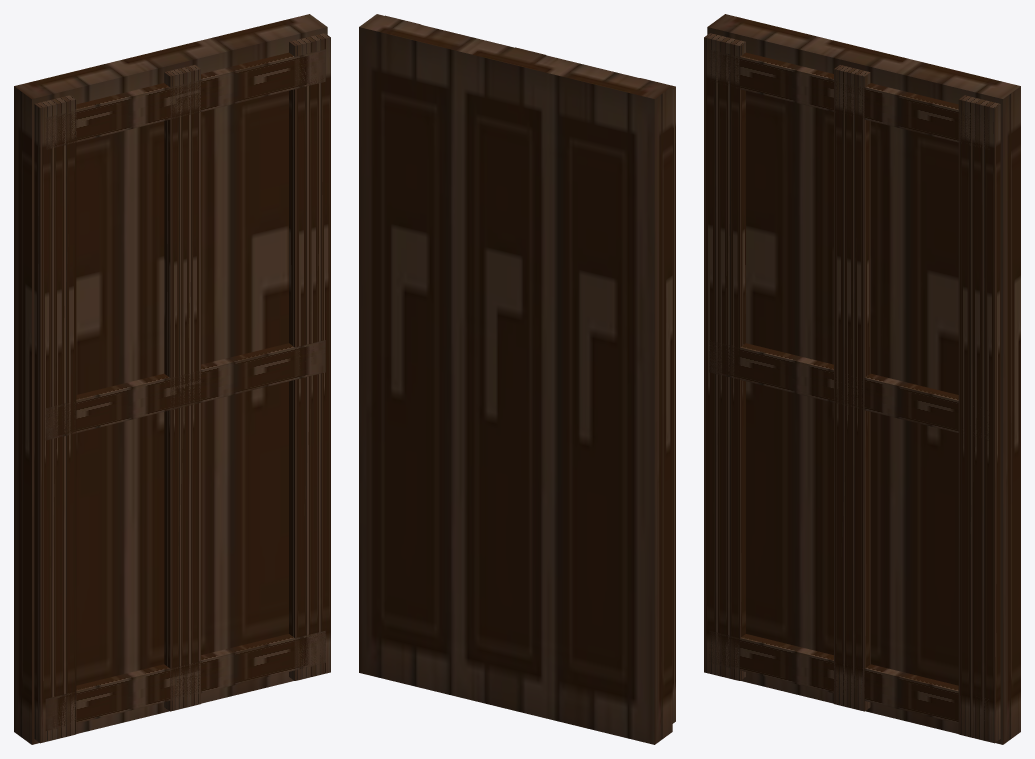
File: ae_duel_stone_door_lod2.glb
3 renders of one model, left to right at view 1: azimuth 30°, elevation 25°; view 2: azimuth 150°, elevation 25°; view 3: azimuth 330°, elevation 25°, orthographic.
Visible parts, largest first — view 1: ae_duel_stone_door_lod2; view 2: ae_duel_stone_door_lod2; view 3: ae_duel_stone_door_lod2.
Part boxes in pixels (x1,y1,x2,y2): ae_duel_stone_door_lod2: (14,14,330,744); ae_duel_stone_door_lod2: (359,14,675,744); ae_duel_stone_door_lod2: (704,14,1020,744).
Size of the model in its own units: 1.15 by 2.4 by 0.16.
1 material, 1 textured.
